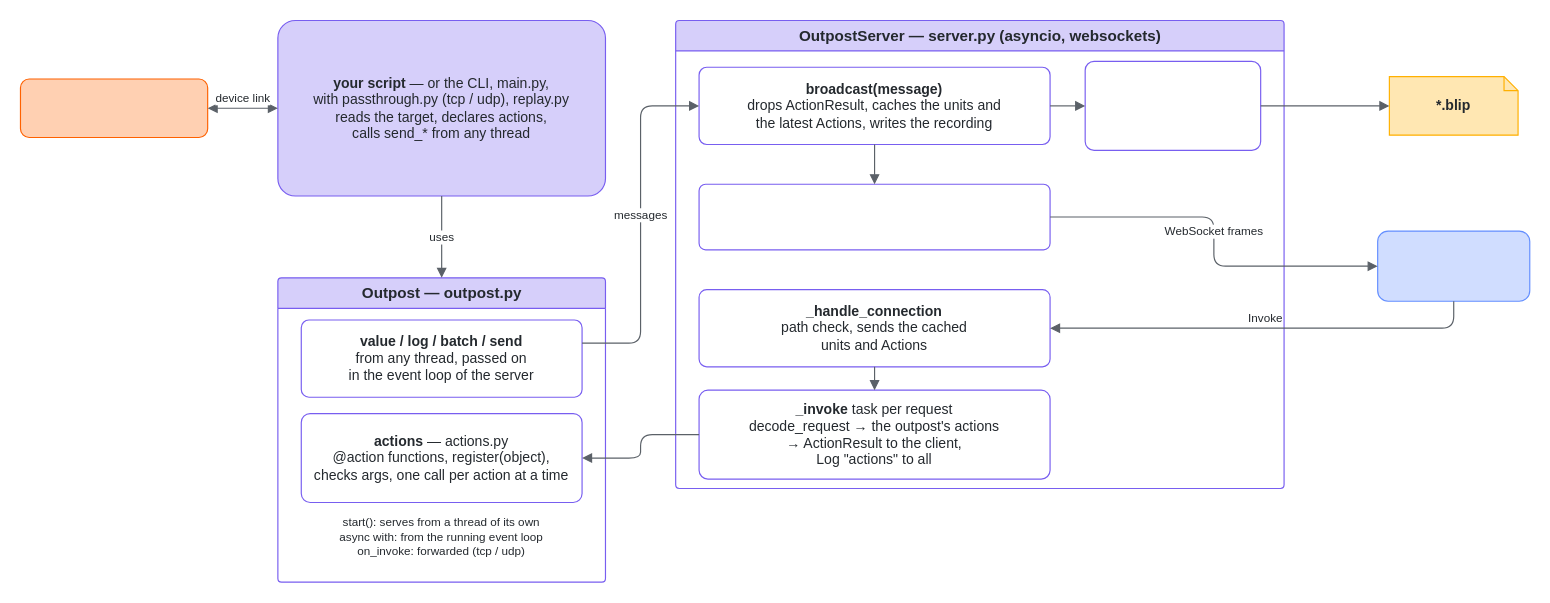
Image size: 1550x603. Some labels were removed from this diagram. The centre of each missing label's shape, as x and y in pixels:
_Client per blip queue (max 10 000), sender task: (874,216)
blip clients: (1453,265)
RecordingWriter recording.py gzip, flushed every s: (1172,105)
target: (113,107)
